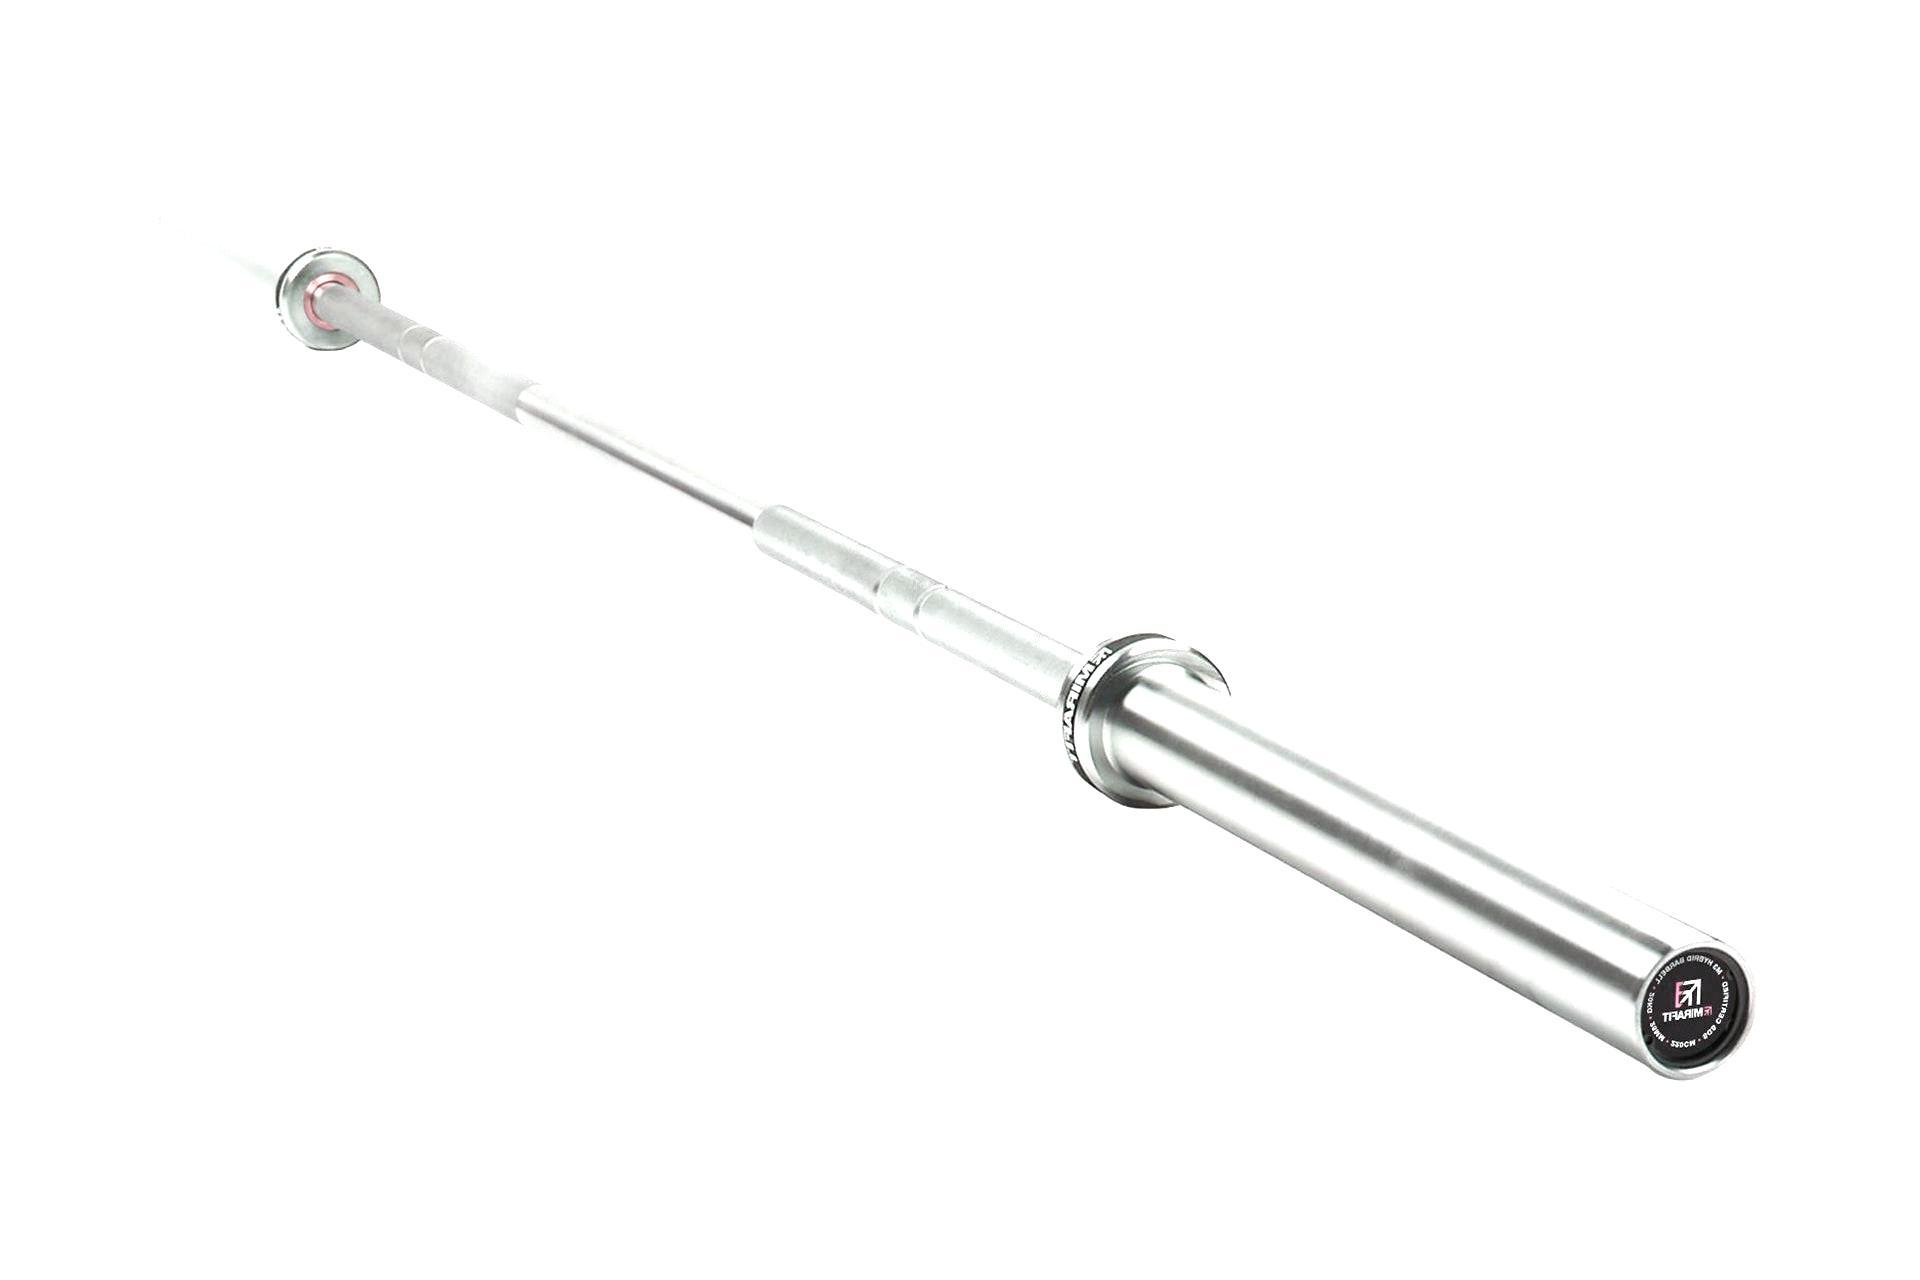Barbell: (1616, 906, 1767, 1134)
